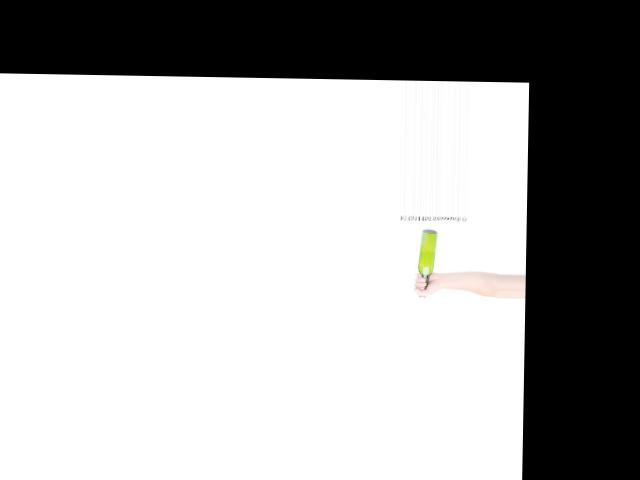beer: (418, 228, 438, 297)
